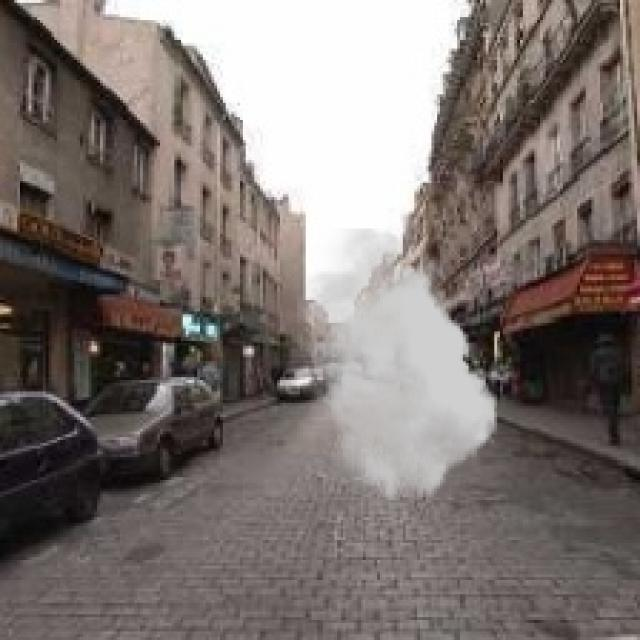smoke: (297, 229, 497, 500)
